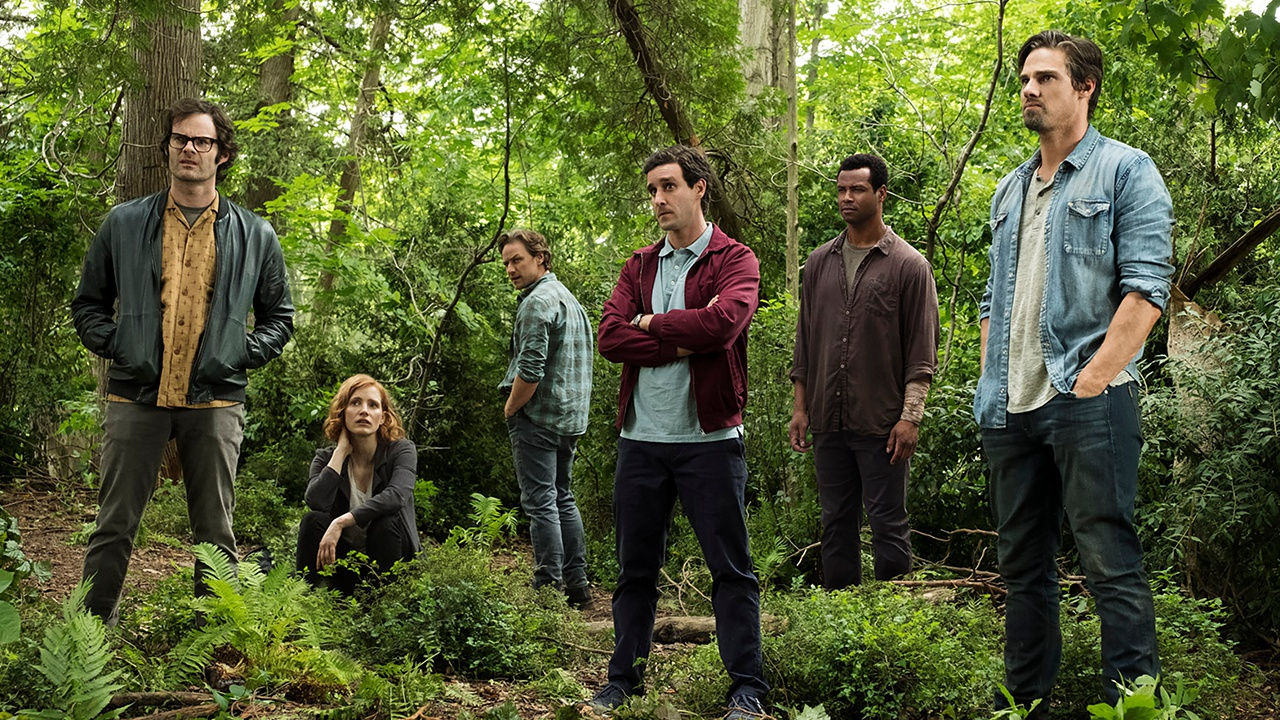bad: (1006, 59, 1068, 122), (636, 170, 688, 222), (164, 124, 216, 176), (828, 175, 871, 218), (343, 391, 386, 434)
